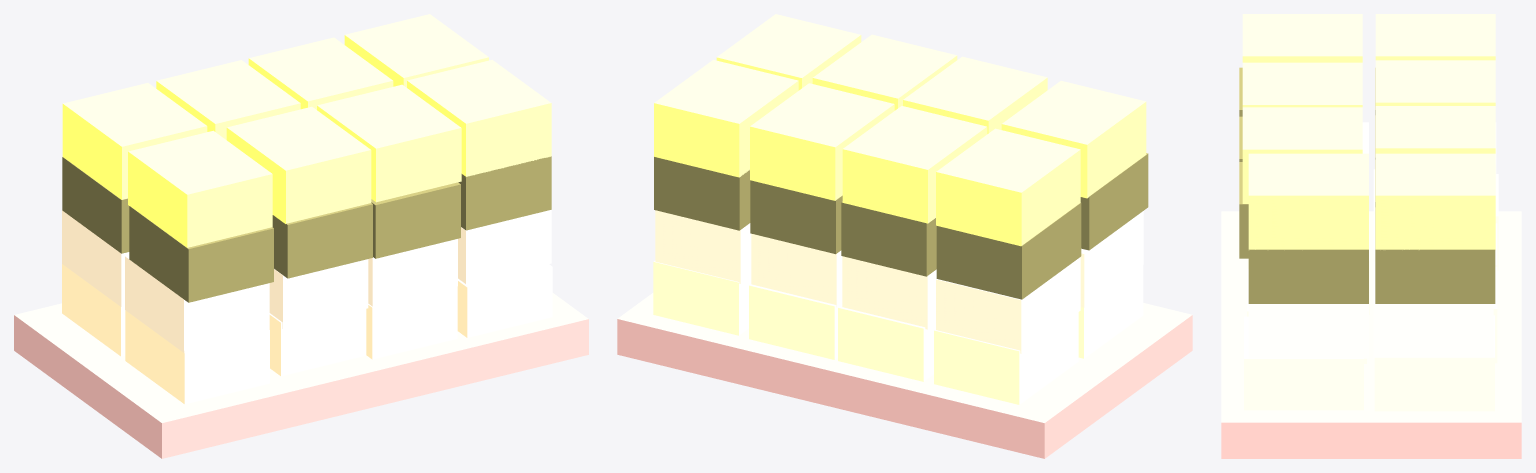
3 views of the same model, side by side, from view 1: azimuth 30°, elevation 25°; view 2: azimuth 150°, elevation 25°; view 3: azimuth 270°, elevation 25° (orthographic).
Visible parts, largest first — view 1: Box (×24); view 2: Box (×24); view 3: Box (×17).
Boxes of the visible parts, bbox=[...] form: Box (×24): bbox=[14, 14, 588, 458]; Box (×24): bbox=[617, 14, 1192, 458]; Box (×17): bbox=[1221, 14, 1521, 458].
Size of what is drawn, in the model's own units: 5 by 2.77 by 3.
